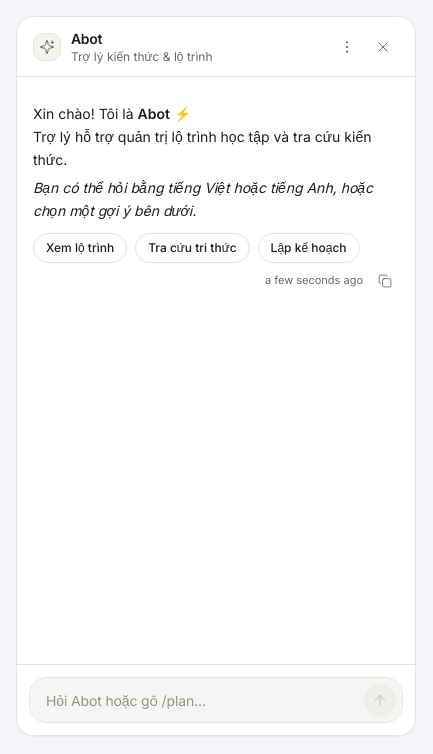
RoadmapChatbotWidget › menu by access (P1-5, P1-7) › reader: offers a new conversation, but no conversation id
The image size is (433, 754).
Click the button named "Tùy chọn": click(347, 46) [331,30,363,62]
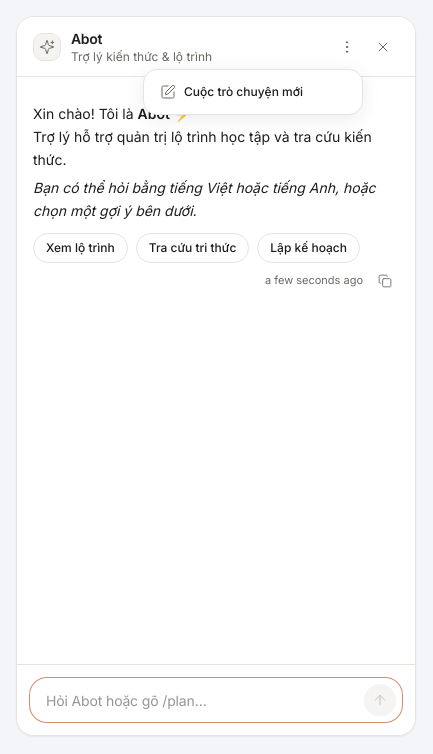
Result: the text "Cuộc trò chuyện mới" is shown at [184,84,303,100]
